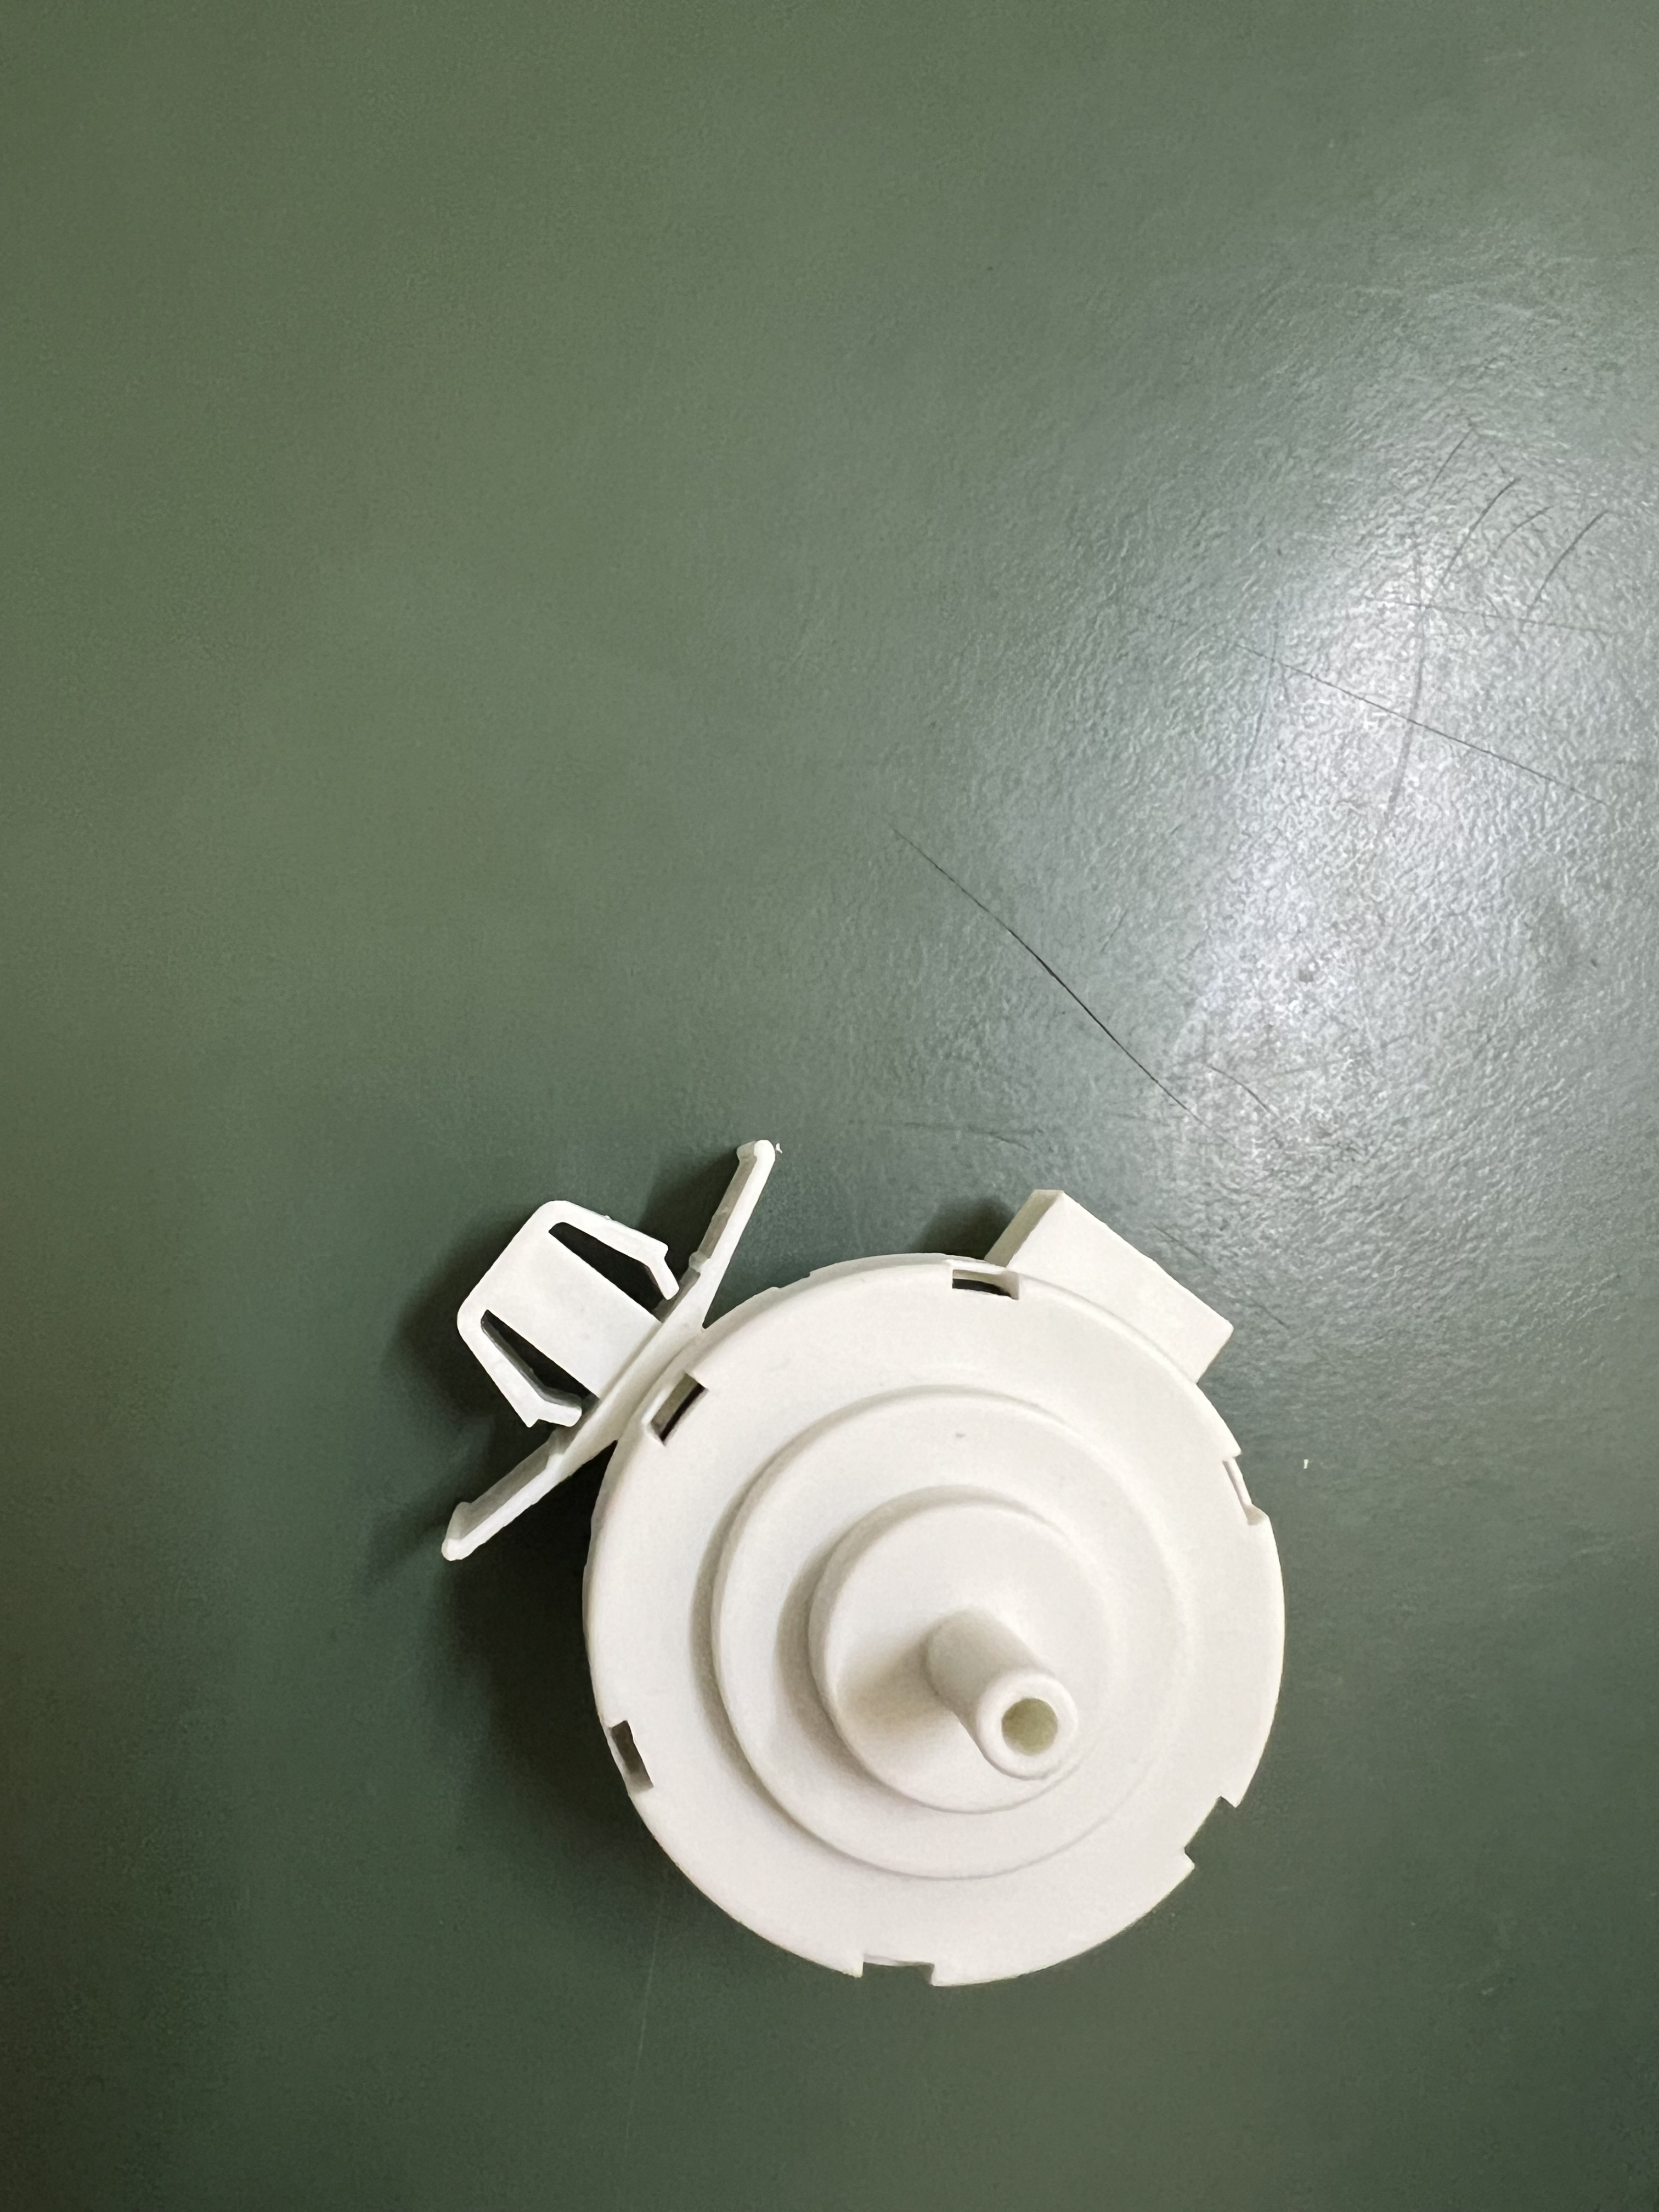pressure_switch_2: (408, 1099, 1384, 2003)
